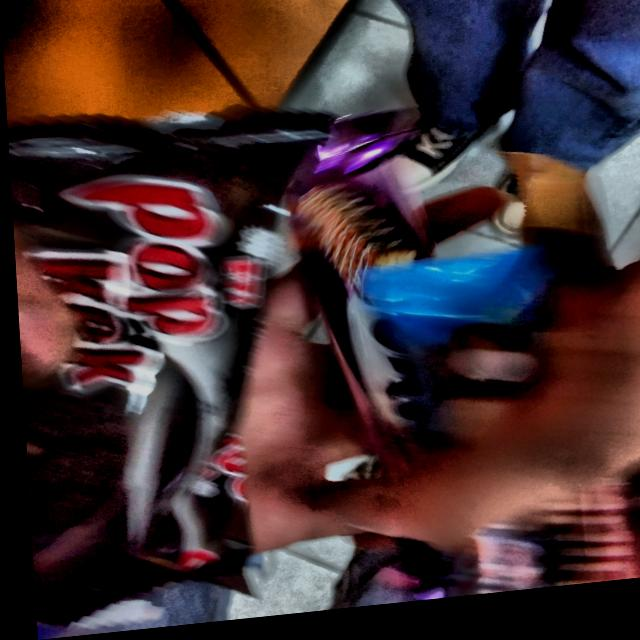Plastic: (4, 61, 374, 552), (381, 168, 590, 609), (271, 118, 400, 475)
